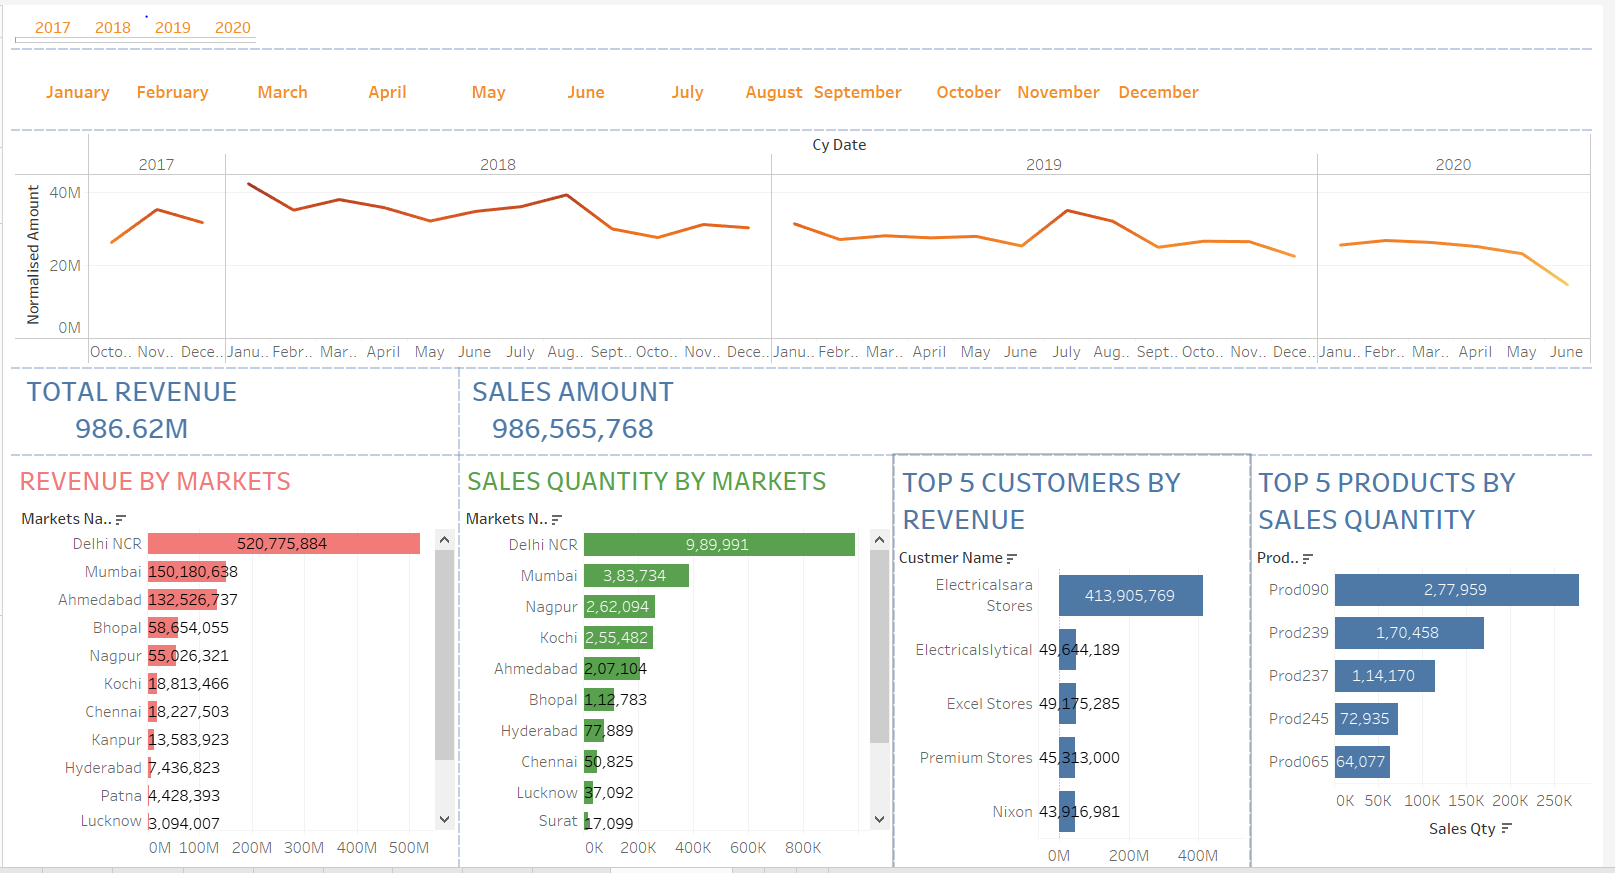

This screenshot's page, from the dashboard's own definition file:
{"tool":"tableau","page":{"name":"Dashboard 1","canvas":[1600,900],"ordinal":0},"visuals":[{"type":"worksheet","box":[0,0,1600,900]},{"type":"worksheet","param":"horz","box":[8,8,1584,884]},{"type":"worksheet","box":[8,8,1584,884]},{"type":"worksheet","title":"Sheet 9","mark":"Automatic","cols":["cy_date"],"box":[8,8,1584,36.1]},{"type":"worksheet","title":"Sheet 10","mark":"Automatic","cols":["month_name"],"box":[8,44.1,1584,77.9]},{"type":"worksheet","title":"Sheet 8","mark":"Line","rows":["Calculation_698058002490306560"],"cols":["cy_date","cy_date"],"box":[8,122,1584,241.2]},{"type":"worksheet","title":"Sheet 2","mark":"Automatic","box":[8,363.2,447.8,86.8]},{"type":"worksheet","title":"Sheet 3","mark":"Automatic","box":[455.8,363.2,1136.2,86.8]},{"type":"worksheet","title":"Sheet 4","mark":"Automatic","rows":["markets_name"],"cols":["Calculation_698058002490306560"],"box":[8,450,447.8,442]},{"type":"worksheet","title":"Sheet 5","mark":"Automatic","rows":["markets_name"],"cols":["sales_qty"],"box":[455.8,450,435.5,442]},{"type":"worksheet","title":"Sheet 6","mark":"Automatic","rows":["custmer_name"],"cols":["Calculation_698058002490306560"],"box":[891.3,450,355.3,442]},{"type":"worksheet","title":"Sheet 7","mark":"Automatic","rows":["product_code (products)"],"cols":["sales_qty"],"box":[1246.6,450,345.4,442]}]}

Visuals, with their boxes on the page's 1600x900 design canvas (x1, y1, x2, y2). These are canvas units, not pixel positions in the 1615x873 screenshot, which may show the page scaled, cropped or inside an application window:
worksheet: bbox(0, 0, 1600, 900)
worksheet: bbox(8, 8, 1592, 892)
worksheet: bbox(8, 8, 1592, 892)
"Sheet 9" worksheet: bbox(8, 8, 1592, 44)
"Sheet 10" worksheet: bbox(8, 44, 1592, 122)
"Sheet 8" worksheet (Line marks): bbox(8, 122, 1592, 363)
"Sheet 2" worksheet: bbox(8, 363, 456, 450)
"Sheet 3" worksheet: bbox(456, 363, 1592, 450)
"Sheet 4" worksheet: bbox(8, 450, 456, 892)
"Sheet 5" worksheet: bbox(456, 450, 891, 892)
"Sheet 6" worksheet: bbox(891, 450, 1247, 892)
"Sheet 7" worksheet: bbox(1247, 450, 1592, 892)
